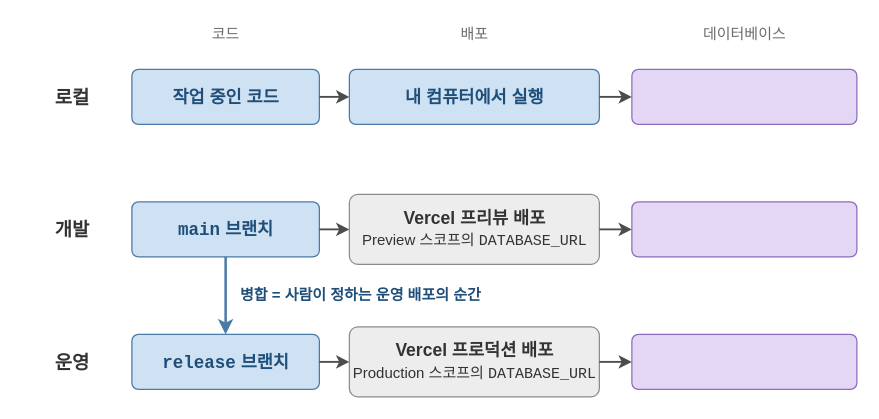
Some shapes in this 879 by 419 pixel diagram are drawn without their labels. The box of each missing label's shape, as (x1, y1, x2, y2) in pixels:
SQLite 파일: (631, 68, 857, 124)
개발 Supabase 프로젝트: (631, 201, 857, 257)
운영 Supabase 프로젝트: (631, 333, 857, 389)
